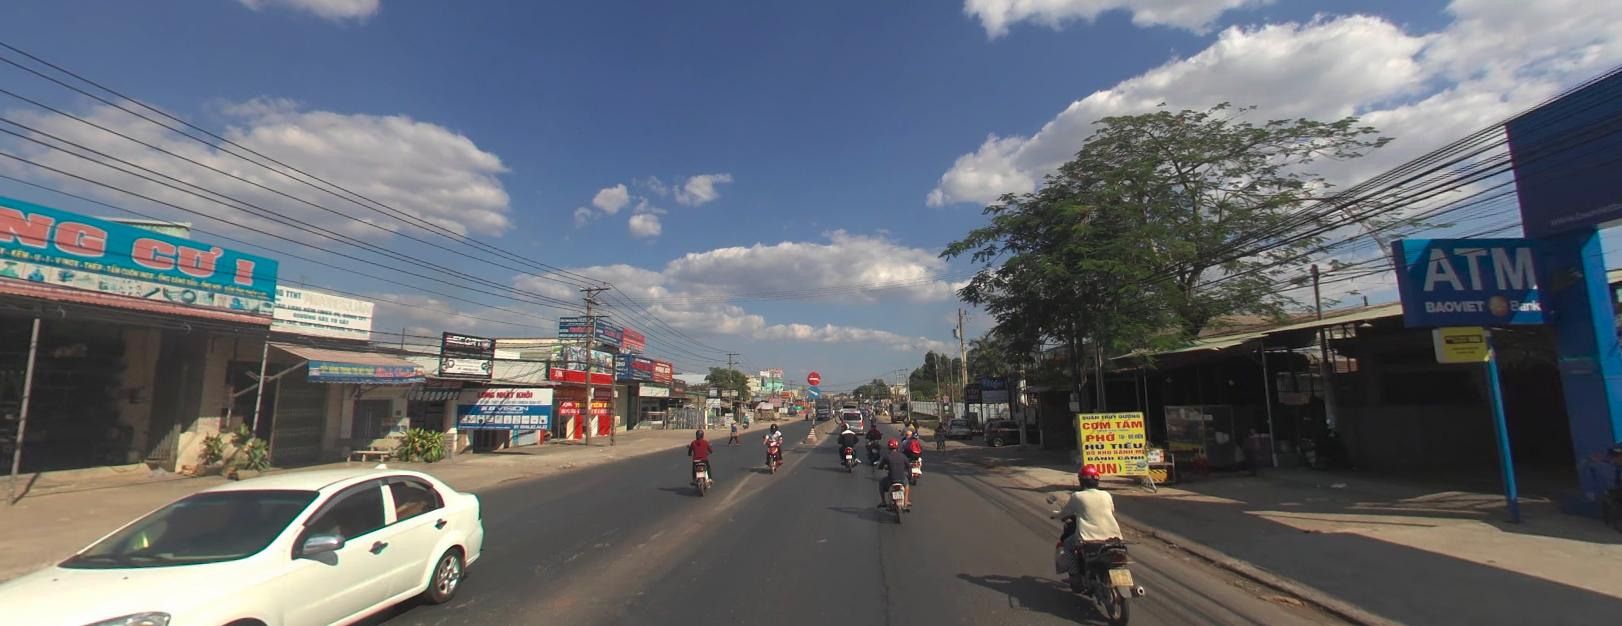Cam nguoc chieu: (807, 369, 819, 383)
Hieu lenh: (807, 384, 820, 397)
